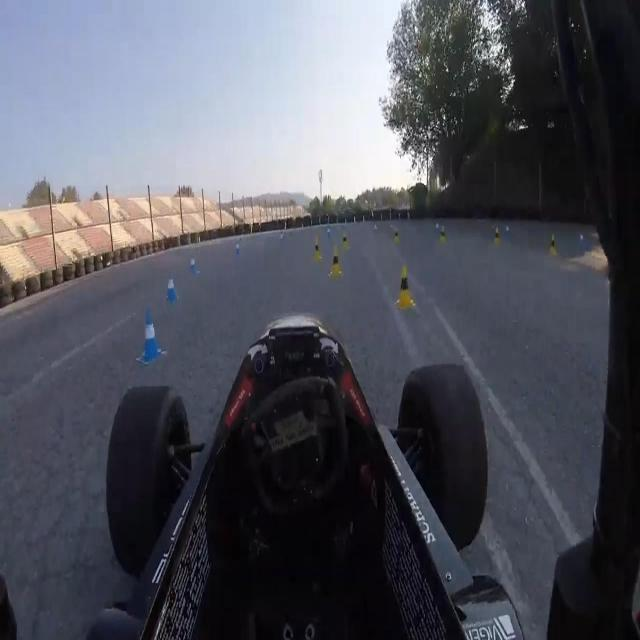blue_cone: (136, 307, 164, 363), (166, 270, 178, 307), (188, 258, 198, 282), (233, 241, 241, 260)
yellow_cone: (396, 268, 414, 308), (331, 246, 341, 276), (341, 228, 350, 256), (548, 234, 558, 259), (312, 237, 322, 261), (492, 227, 501, 250), (439, 223, 447, 245), (393, 228, 400, 246)
